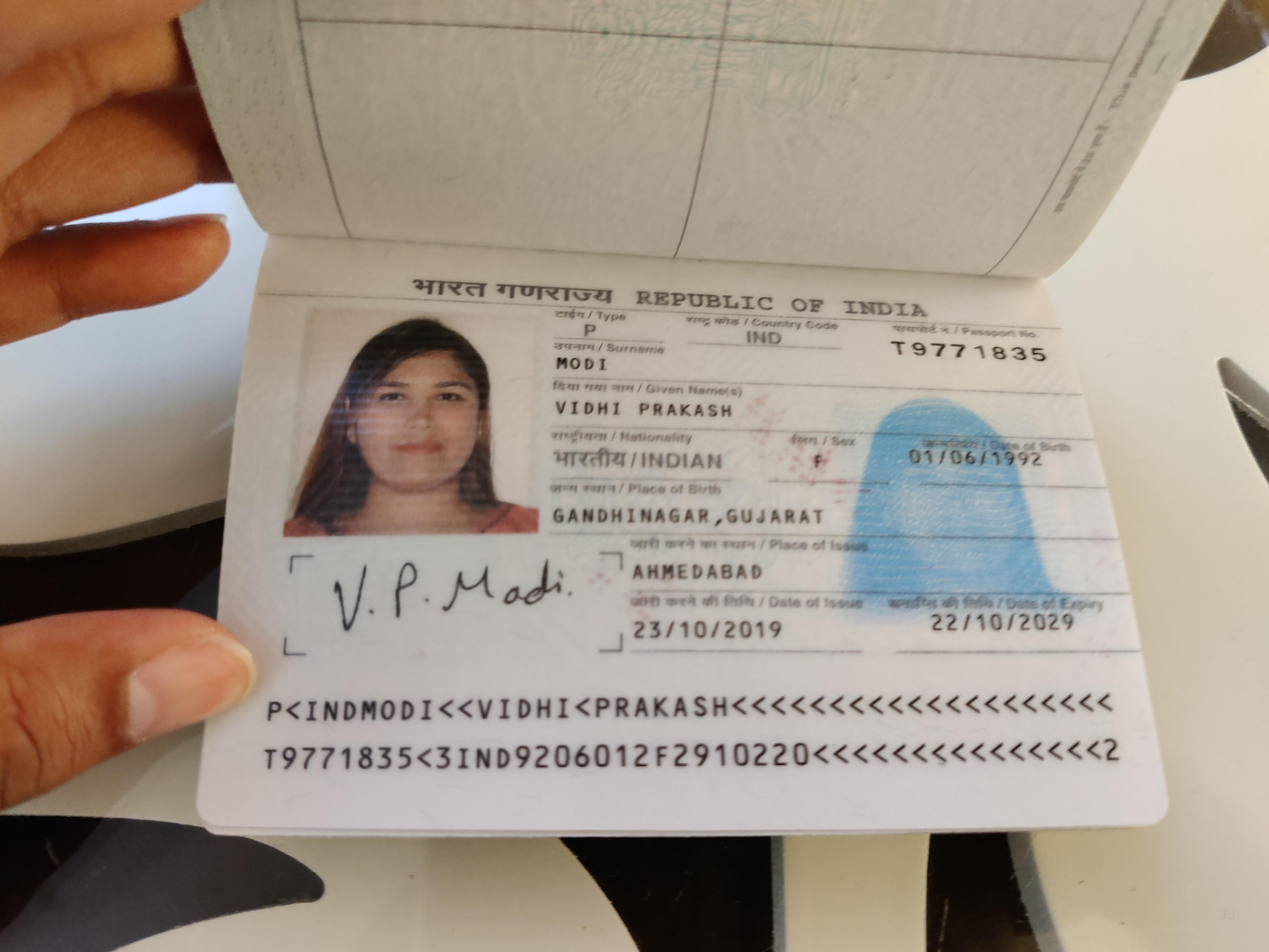DOB: (896, 438, 1065, 476)
Surname: (546, 347, 615, 374)
country_code: (725, 322, 798, 353)
date_of_expiry: (920, 605, 1111, 643)
date_of_issue: (625, 611, 799, 651)
details: (246, 685, 1146, 785)
name: (550, 393, 750, 430)
nationality: (544, 438, 739, 478)
passport_no: (885, 333, 1058, 371)
photo: (303, 311, 530, 533)
place_of_birth: (549, 497, 830, 530)
place_of_issue: (622, 549, 774, 589)
sex: (804, 446, 841, 480)
sign: (319, 549, 587, 653)
type: (571, 314, 610, 347)
